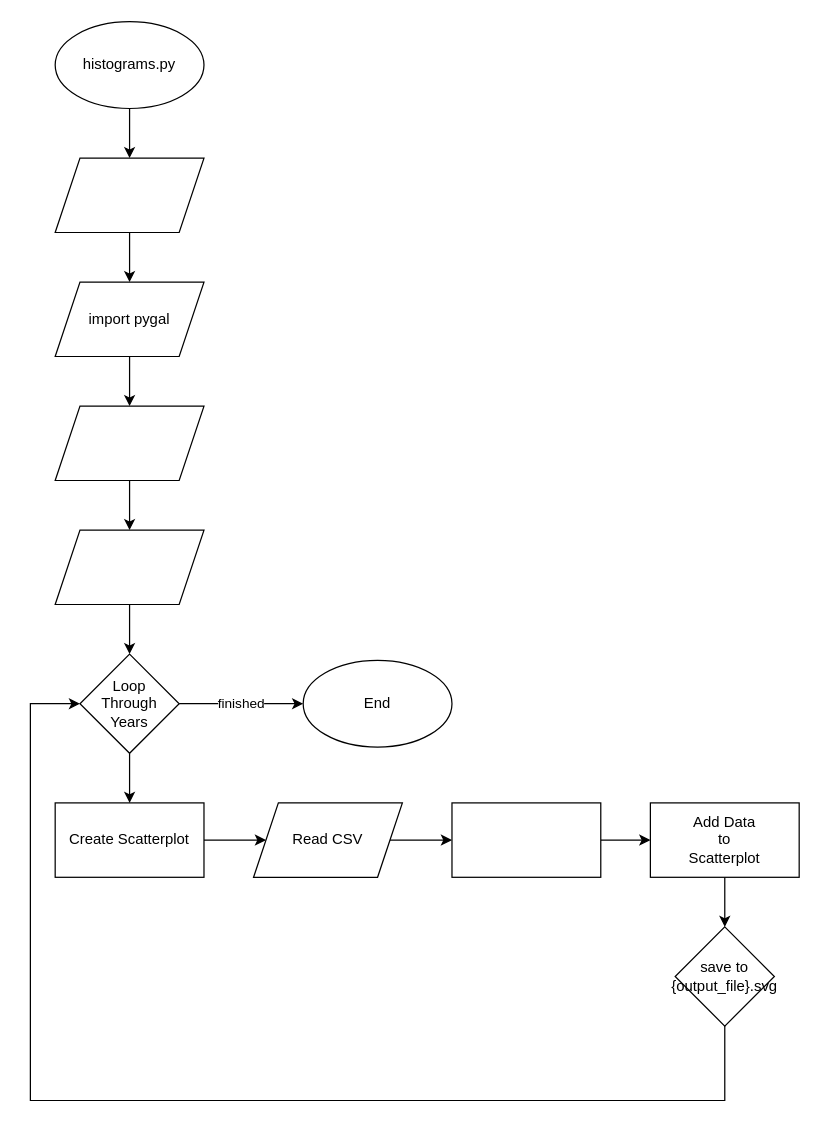
The diagram is 821 pixels wide and 1132 high, and some of its shapes have lost their labels. The shapes that lost their labels are listed below. From the top down, each one's box as (x1, y1, x2, y2) in pixels, then its label:
(54, 157, 204, 232): import pandas
(54, 405, 204, 480): Define CSVs
(54, 529, 204, 604): Define Factors
(451, 802, 601, 877): Extract Factor Value and Happiness Score
